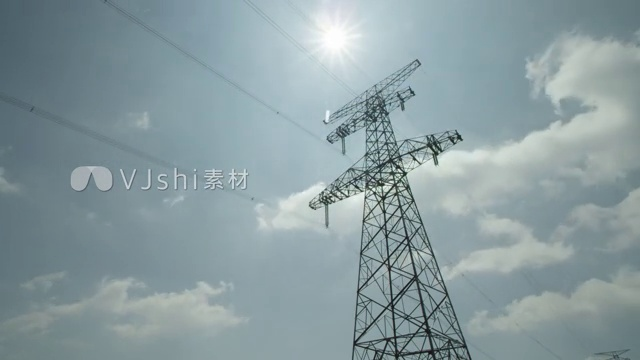tower_body: (310, 51, 476, 360)
tower_foot: (344, 296, 471, 360)
tower_head: (317, 56, 429, 142)
